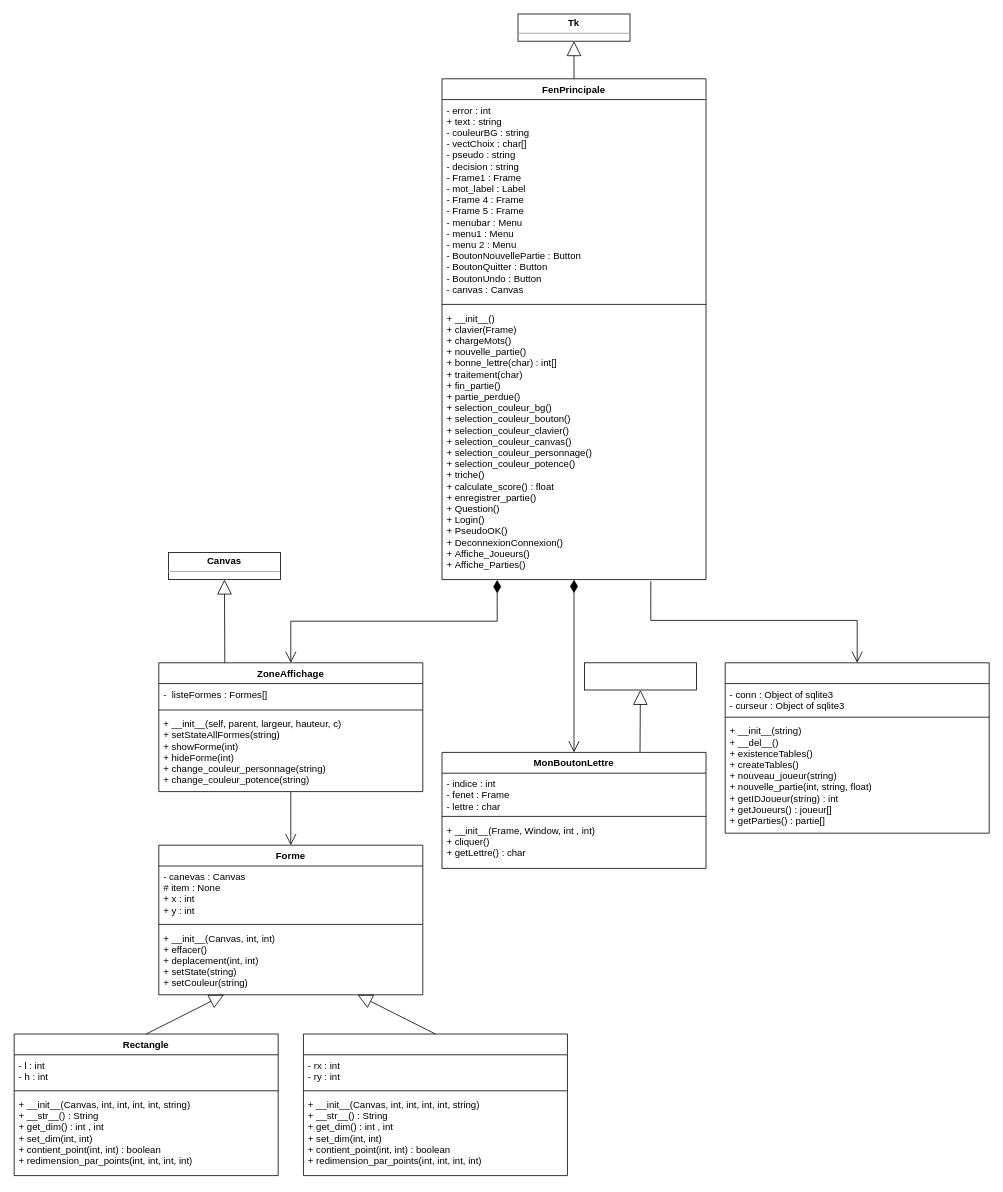
The diagram is 1003 pixels wide and 1192 high, and some of its shapes have lost their labels. Each missing label, with the box of its shape:
Button: (584, 662, 696, 690)
Ellipse: (303, 1033, 567, 1176)
JoueurDB: (724, 662, 989, 833)
